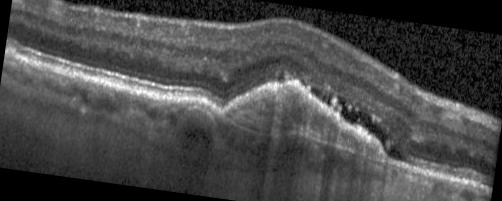neuroepithelium_detachment: (309, 87, 401, 159)
subretinal_hyperreflective_material: (224, 83, 384, 159)
